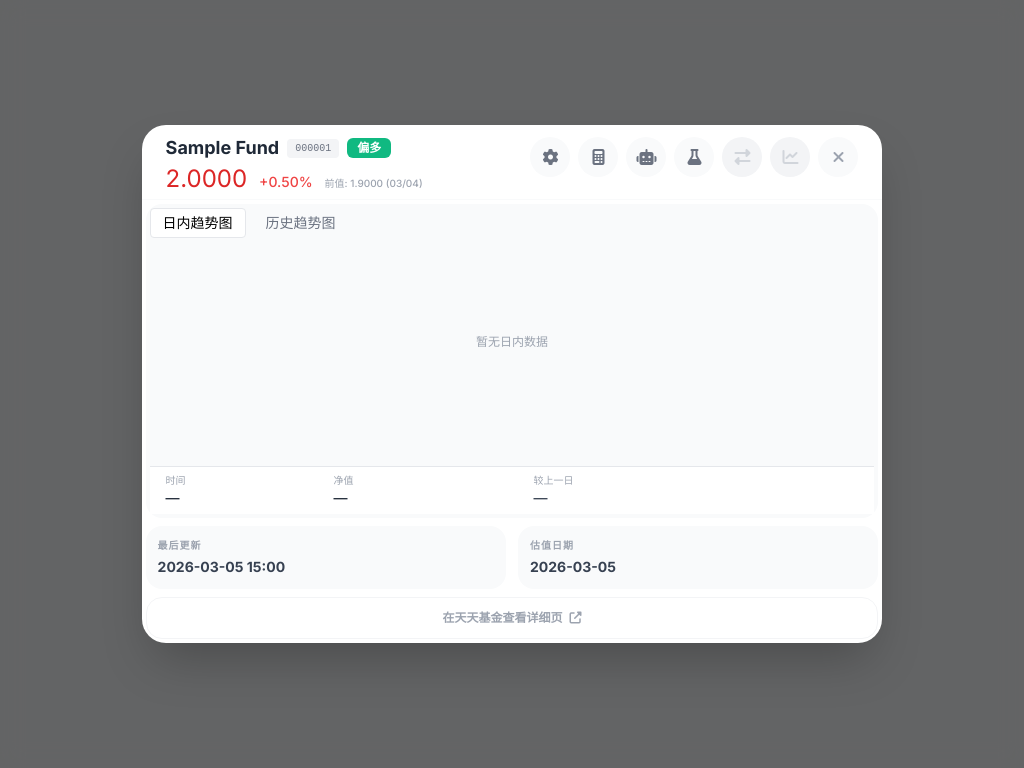
Test: 基金份额计算器 › 点击计算器按钮打开弹窗
The image size is (1024, 768).
Expected: the button "历史趋势图" is shown, [254,209,348,237]
What coordinates should you click on to do the following:
click the button named "基金份额计算器"
I would click on:
 (598, 157)
Its box is [578,137,618,177].
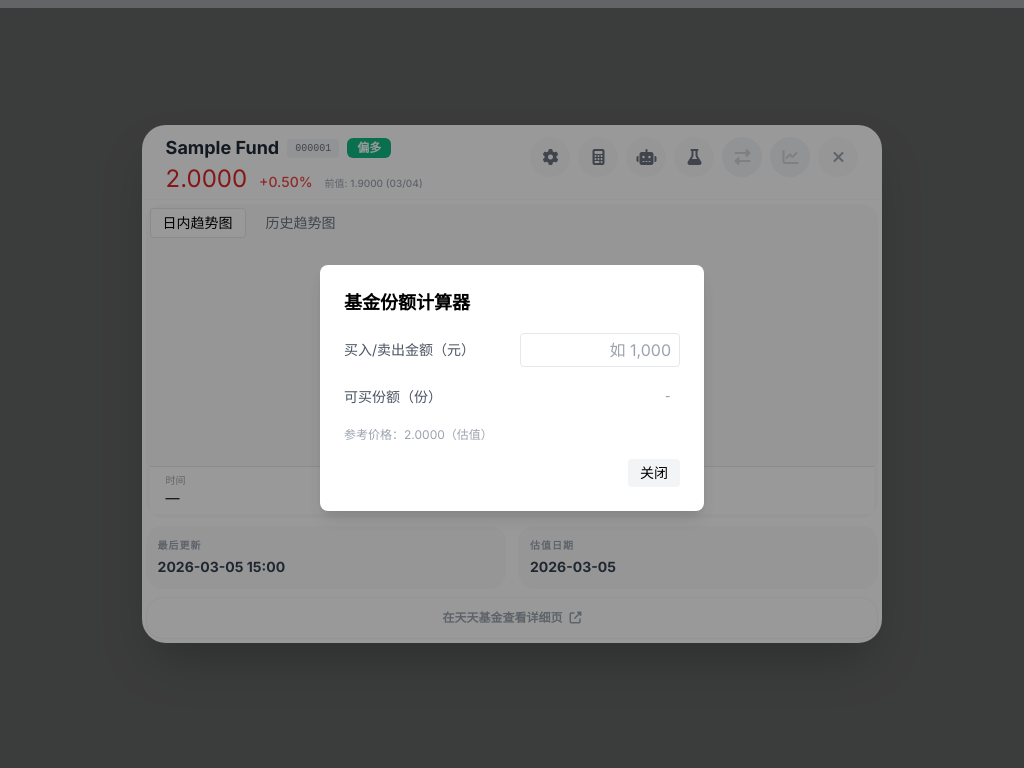
Now the heading "基金份额计算器" is shown, box [344,292,470,313]
